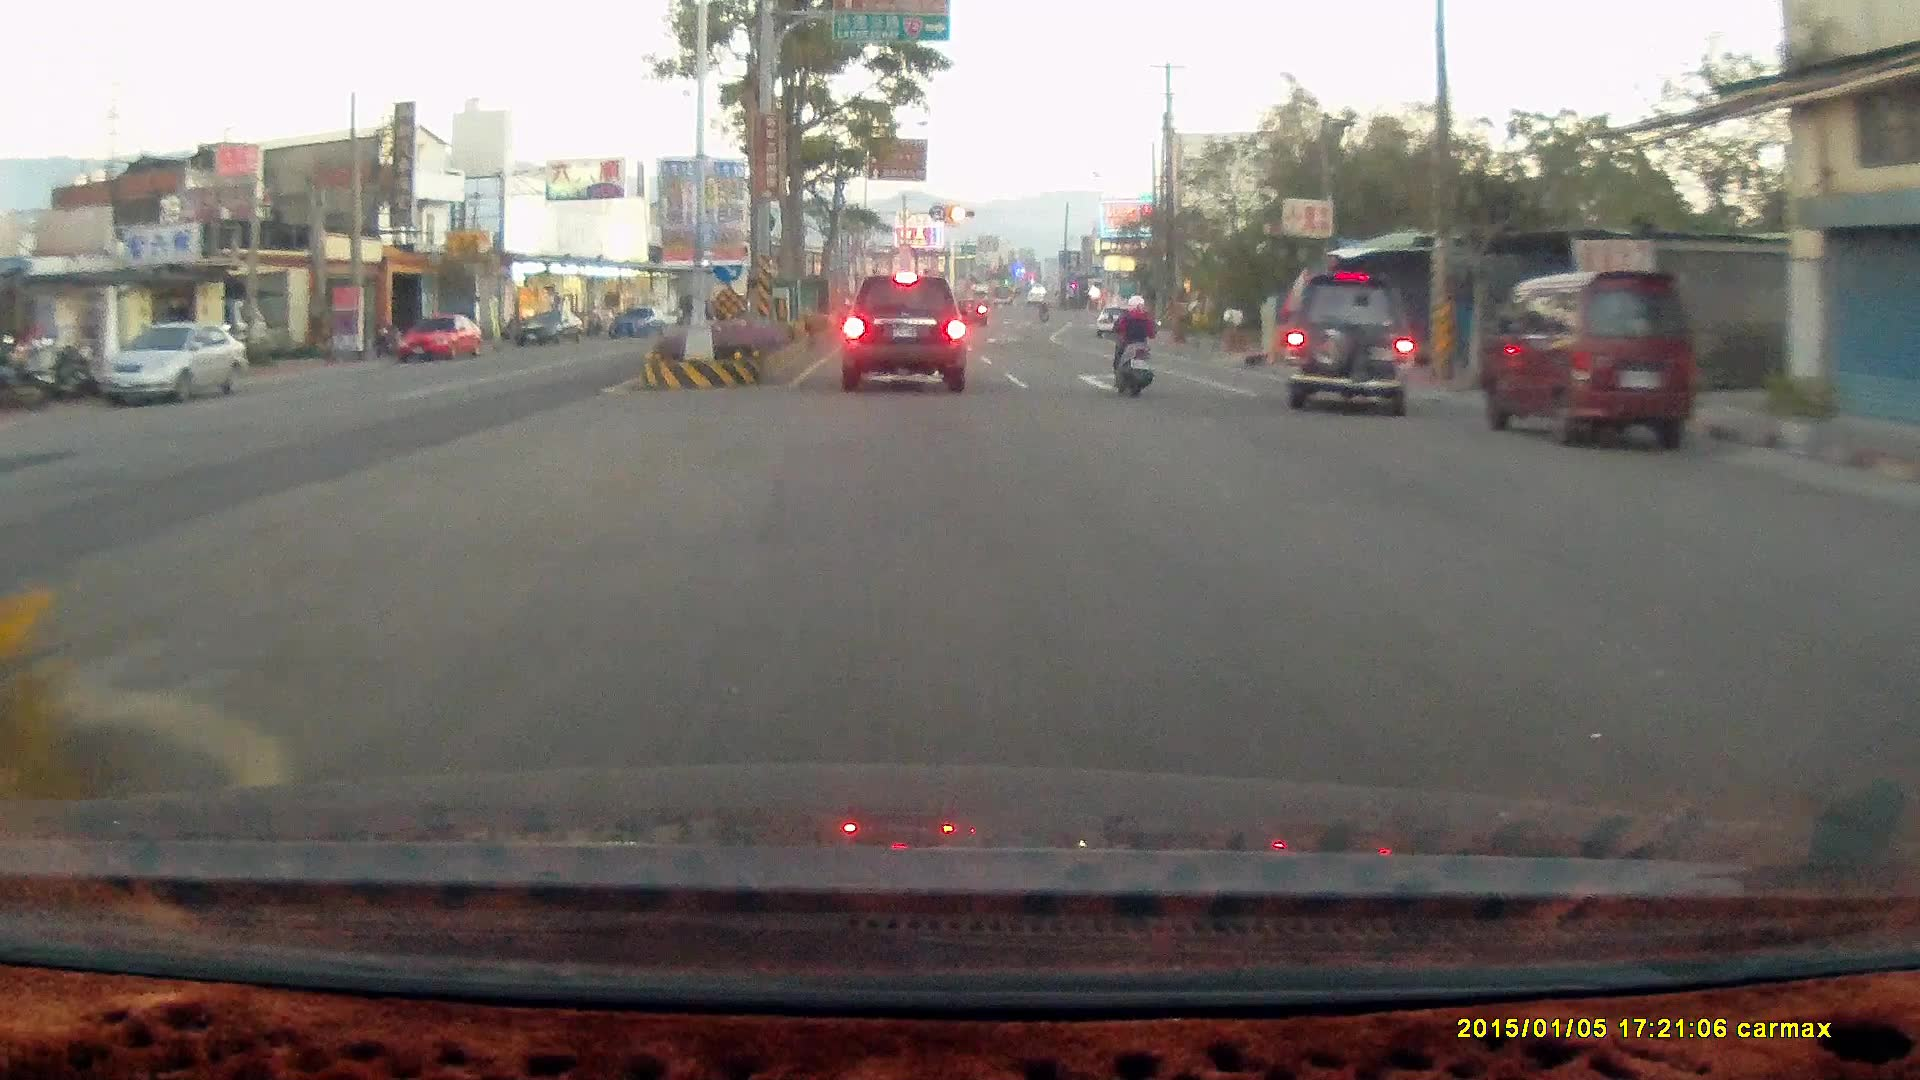rider: (1108, 289, 1157, 398)
vehicle: (1471, 266, 1696, 452), (1480, 265, 1700, 447), (1278, 267, 1424, 407), (1281, 269, 1415, 416), (838, 273, 966, 391), (96, 319, 252, 406), (97, 319, 249, 404), (1896, 493, 1920, 836), (1883, 528, 1920, 690), (396, 315, 484, 365), (395, 312, 482, 361), (1094, 302, 1140, 335)
